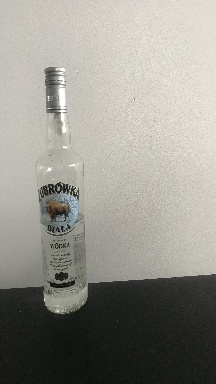butelka: (33, 64, 89, 316)
